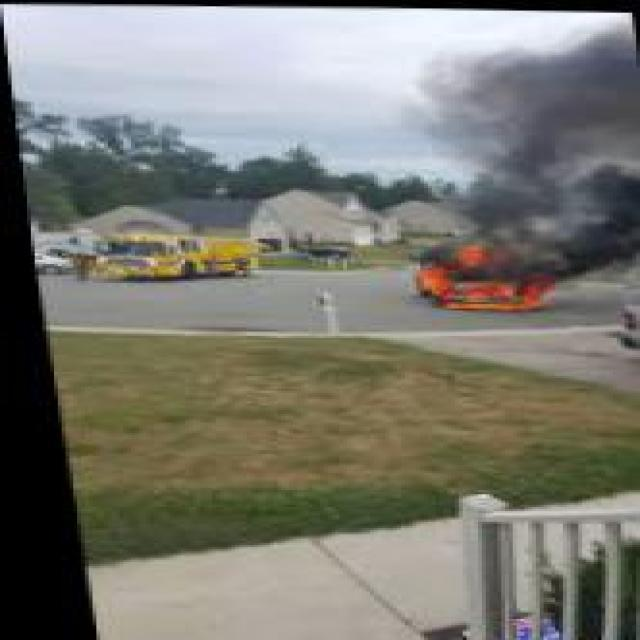Fire: (378, 236, 574, 322)
Smoke: (354, 4, 636, 237)
